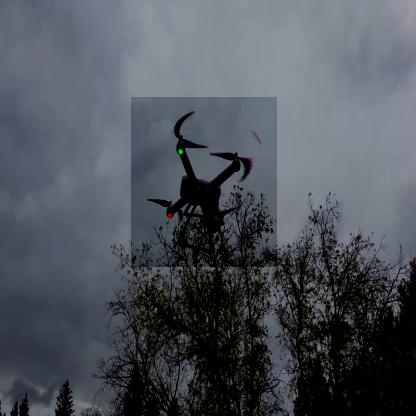Drone: (132, 97, 278, 267)
